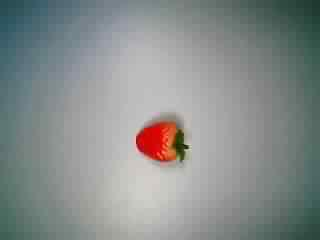strawberry: (126, 105, 192, 171)
